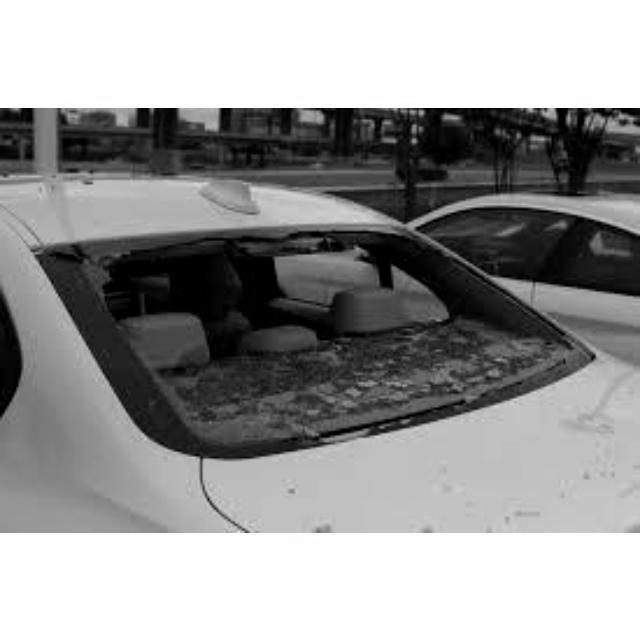Rear-windscreen-Damage: (70, 208, 516, 417)
